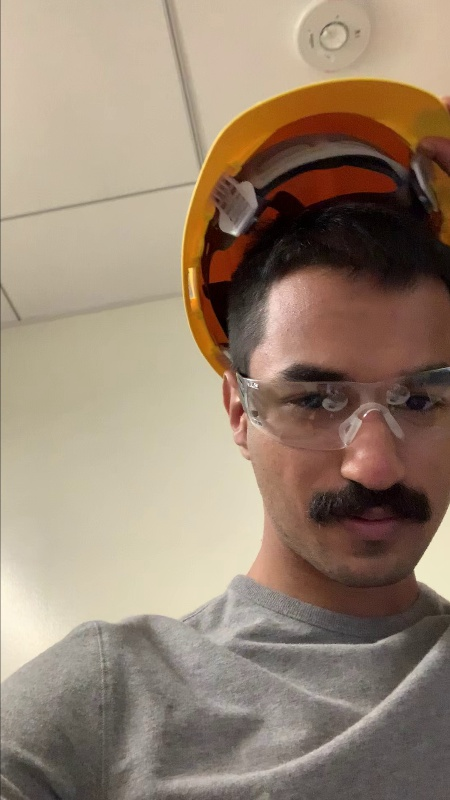glasses: (230, 360, 450, 461)
helmet: (182, 74, 450, 215)
